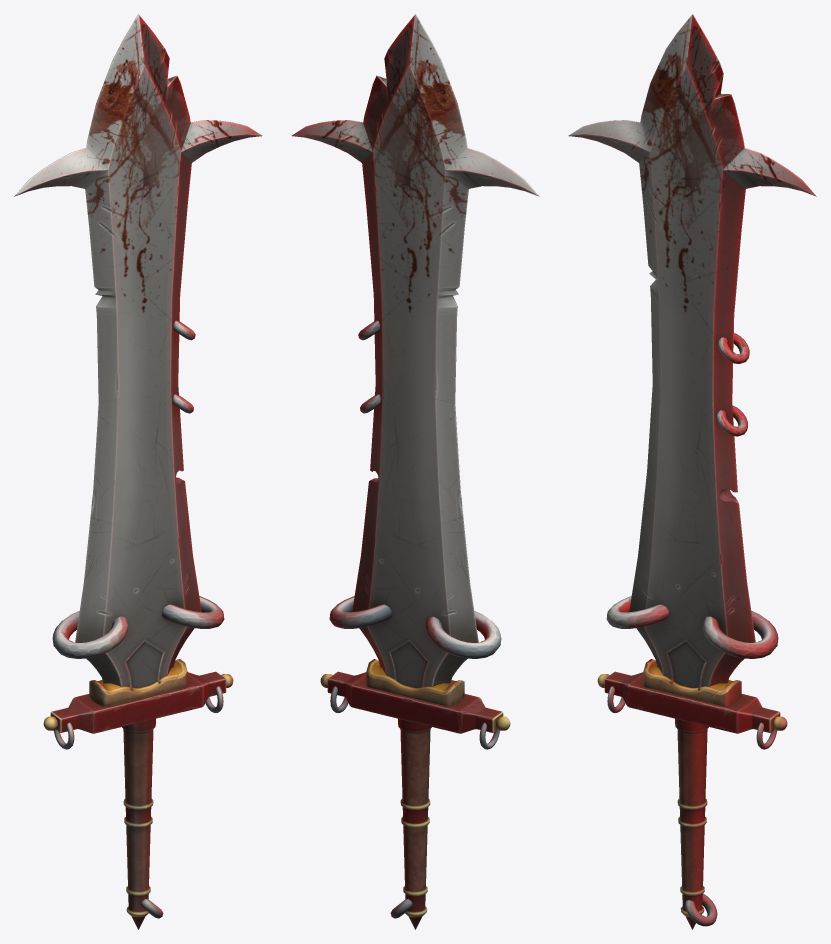
The model's file is sm_sword_57.gltf.
3 renders of one model, left to right at view 1: azimuth 30°, elevation 25°; view 2: azimuth 150°, elevation 25°; view 3: azimuth 330°, elevation 25°, orthographic.
Visible parts, largest first — view 1: sm_sword_57; view 2: sm_sword_57; view 3: sm_sword_57.
Part boxes in pixels (bbox=[...]): sm_sword_57: bbox=[14, 14, 262, 929]; sm_sword_57: bbox=[291, 14, 539, 929]; sm_sword_57: bbox=[568, 14, 816, 929].
Size of the model in its own units: 0.4273 by 1.5 by 0.1165.
1 material, 1 textured.
